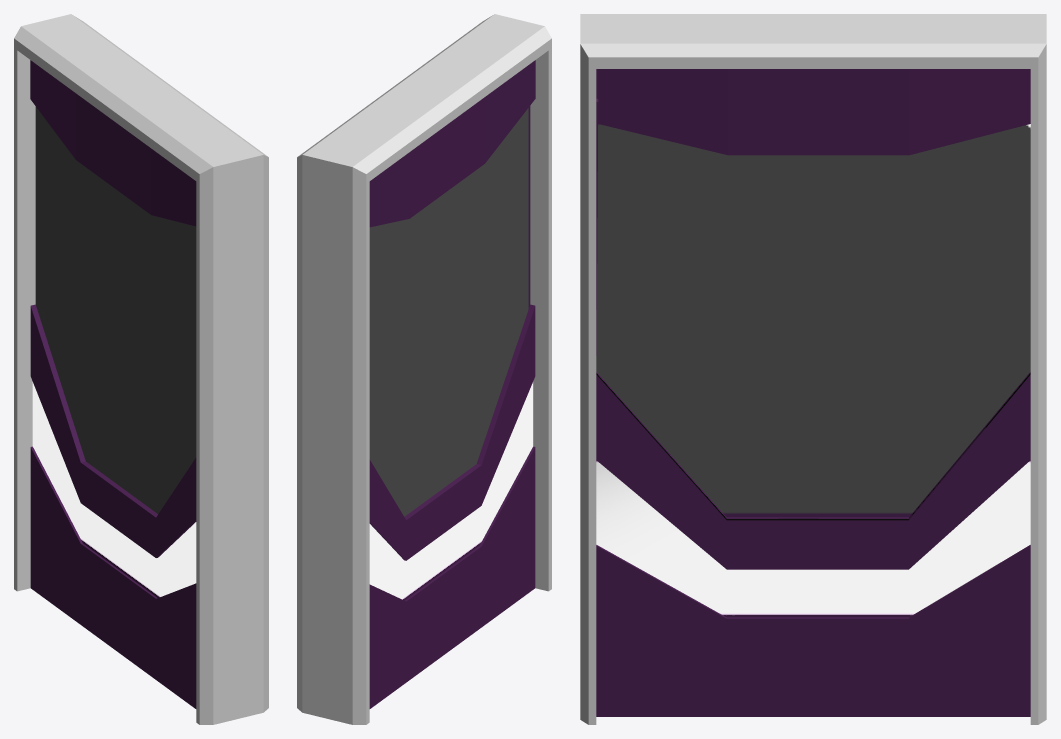
Rendered from SM_Door.fbx.
3 renders of one model, left to right at view 1: azimuth 30°, elevation 25°; view 2: azimuth 150°, elevation 25°; view 3: azimuth 270°, elevation 25°, orthographic. The views are drawn at different scales.
Visible parts, largest first — view 1: SM_Door, SM_Doorway; view 2: SM_Door, SM_Doorway; view 3: SM_Door, SM_Doorway.
Boxes of the visible parts, <box> form: SM_Door: <box>30,60,196,708</box>; SM_Doorway: <box>14,14,268,724</box>; SM_Door: <box>369,60,535,708</box>; SM_Doorway: <box>297,14,551,724</box>; SM_Door: <box>596,69,1030,716</box>; SM_Doorway: <box>580,14,1046,724</box>.
Size of the model in its own units: 40.23 by 309 by 193.
2 materials, 1 textured.
